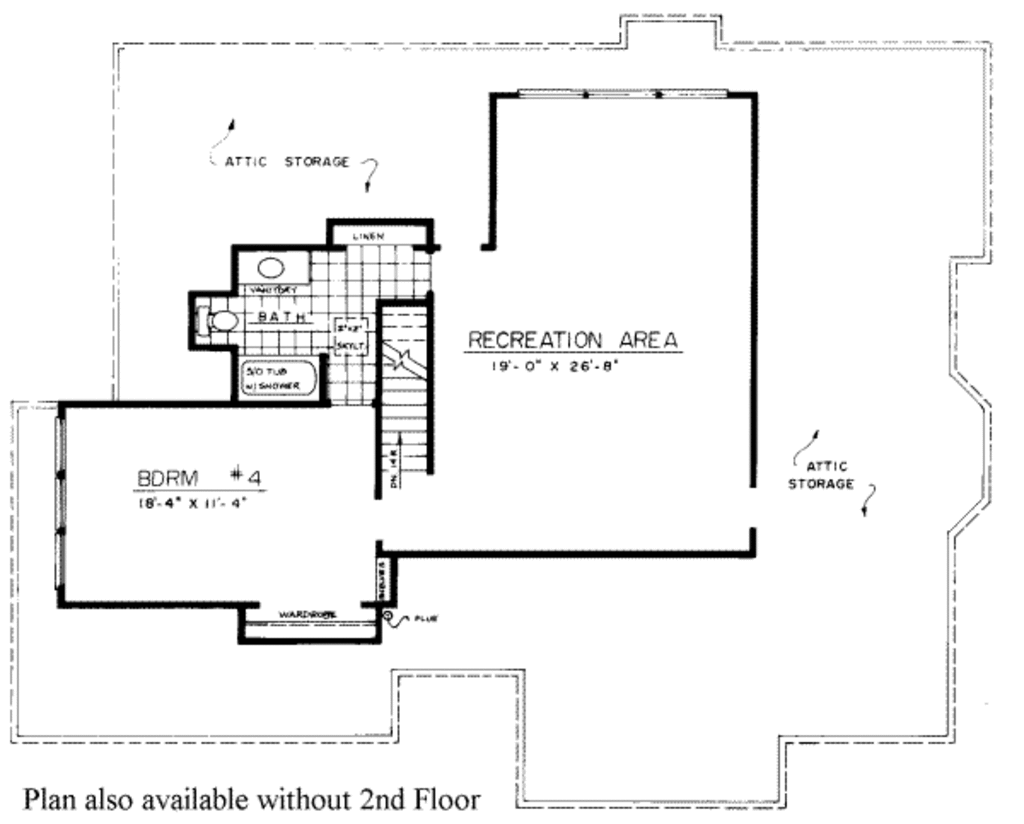large_sink: (191, 298, 251, 346)
small_sink: (236, 251, 322, 284)
stairs: (367, 299, 441, 481)
tub: (231, 353, 337, 408)
window: (51, 413, 72, 589), (520, 84, 731, 99)
